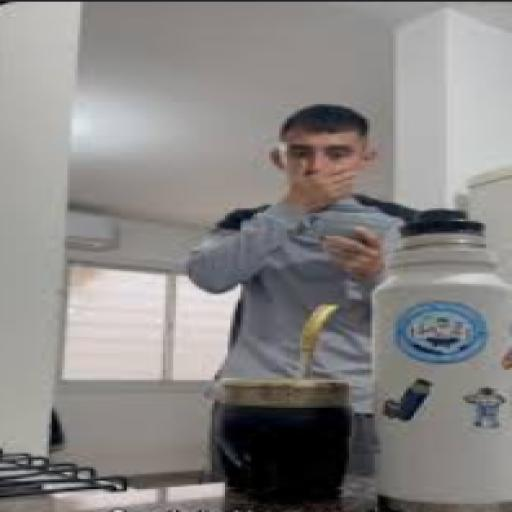mate: (220, 304, 349, 502)
termo: (372, 211, 509, 510)
